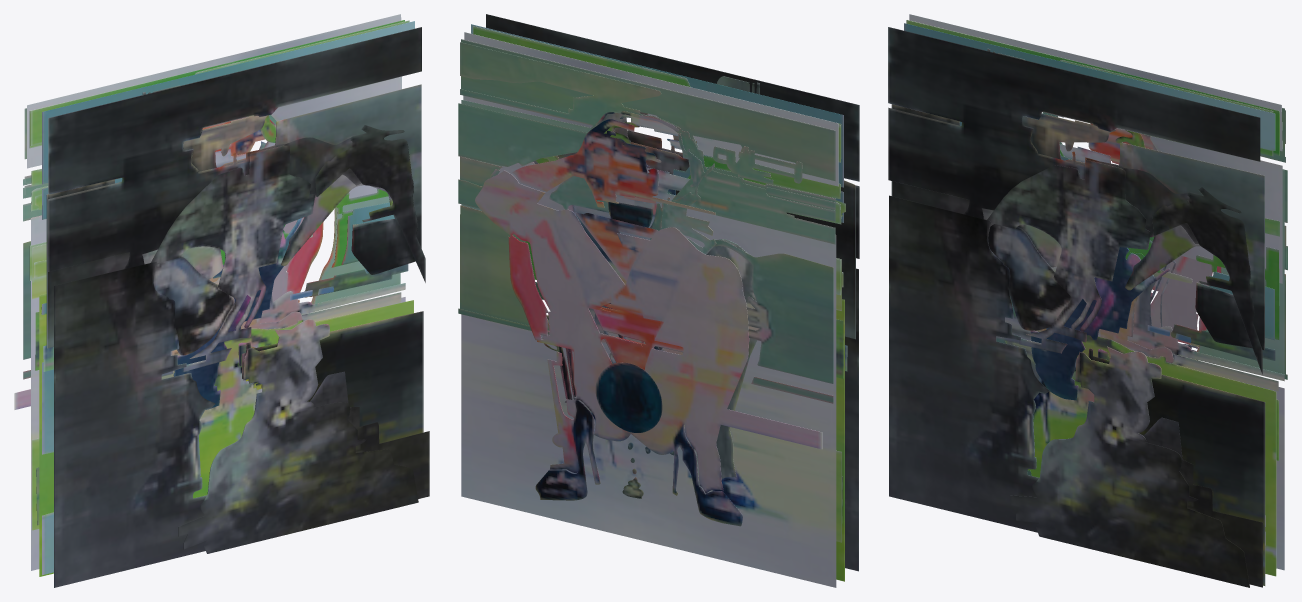
The model's file is type_iii.glb.
3 renders of one model, left to right at view 1: azimuth 30°, elevation 25°; view 2: azimuth 150°, elevation 25°; view 3: azimuth 330°, elevation 25°, orthographic.
Visible parts, largest first — view 1: 49, 46, 50, 43, 48, 44, 32, 33, 47, 21, 45, 22 (+13 smaller); view 2: 22, 04, 18, 16, 17, 46, 06, 21, 03, 43, 01, 49 (+13 smaller); view 3: 49, 46, 50, 43, 48, 44, 32, 21, 47, 35, 45, 22 (+10 smaller).
Boxes of the visible parts, <box> form: 49: <box>54,261,429,587</box>; 46: <box>48,27,421,271</box>; 50: <box>178,319,418,553</box>; 43: <box>46,84,421,348</box>; 48: <box>151,145,314,371</box>; 44: <box>242,311,423,443</box>; 32: <box>39,293,413,576</box>; 33: <box>41,21,414,575</box>; 47: <box>315,125,425,282</box>; 21: <box>27,14,401,198</box>; 45: <box>153,256,234,355</box>; 22: <box>31,141,405,570</box>; 22: <box>461,167,836,587</box>; 04: <box>475,170,822,493</box>; 18: <box>460,39,835,350</box>; 16: <box>458,103,833,403</box>; 17: <box>460,42,835,244</box>; 46: <box>486,14,859,258</box>; 06: <box>512,119,715,214</box>; 21: <box>463,32,838,214</box>; 03: <box>535,400,742,526</box>; 43: <box>533,76,855,339</box>; 01: <box>595,362,662,432</box>; 49: <box>845,268,858,571</box>; 49: <box>889,195,1262,587</box>; 46: <box>888,27,1260,244</box>; 50: <box>1010,346,1249,587</box>; 43: <box>891,48,1264,350</box>; 48: <box>987,159,1150,353</box>; 44: <box>1088,348,1265,585</box>; 32: <box>1005,317,1276,576</box>; 21: <box>909,14,1282,283</box>; 47: <box>1152,187,1262,374</box>; 35: <box>1030,247,1244,400</box>; 45: <box>988,224,1071,330</box>; 22: <box>1051,144,1284,570</box>.
Size of the model in its own units: 1.29 by 1.53 by 0.2473.
1 material, 1 textured.
